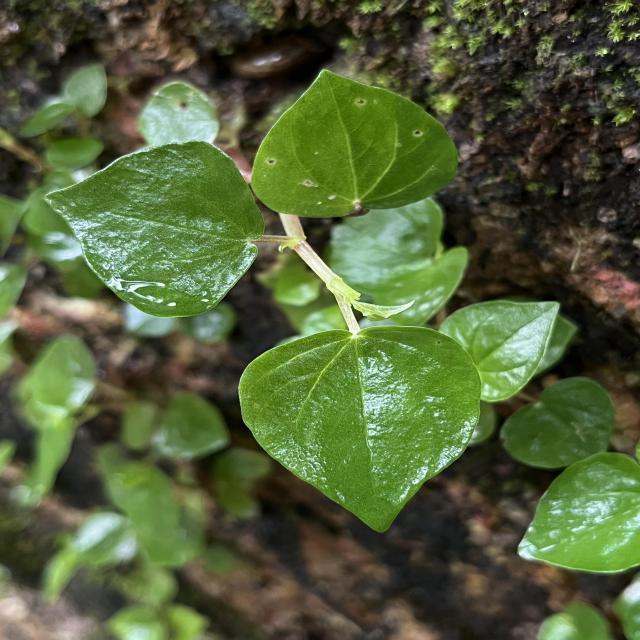Peperomia pellucida: (234, 320, 484, 538), (38, 136, 269, 324), (248, 66, 462, 224)
